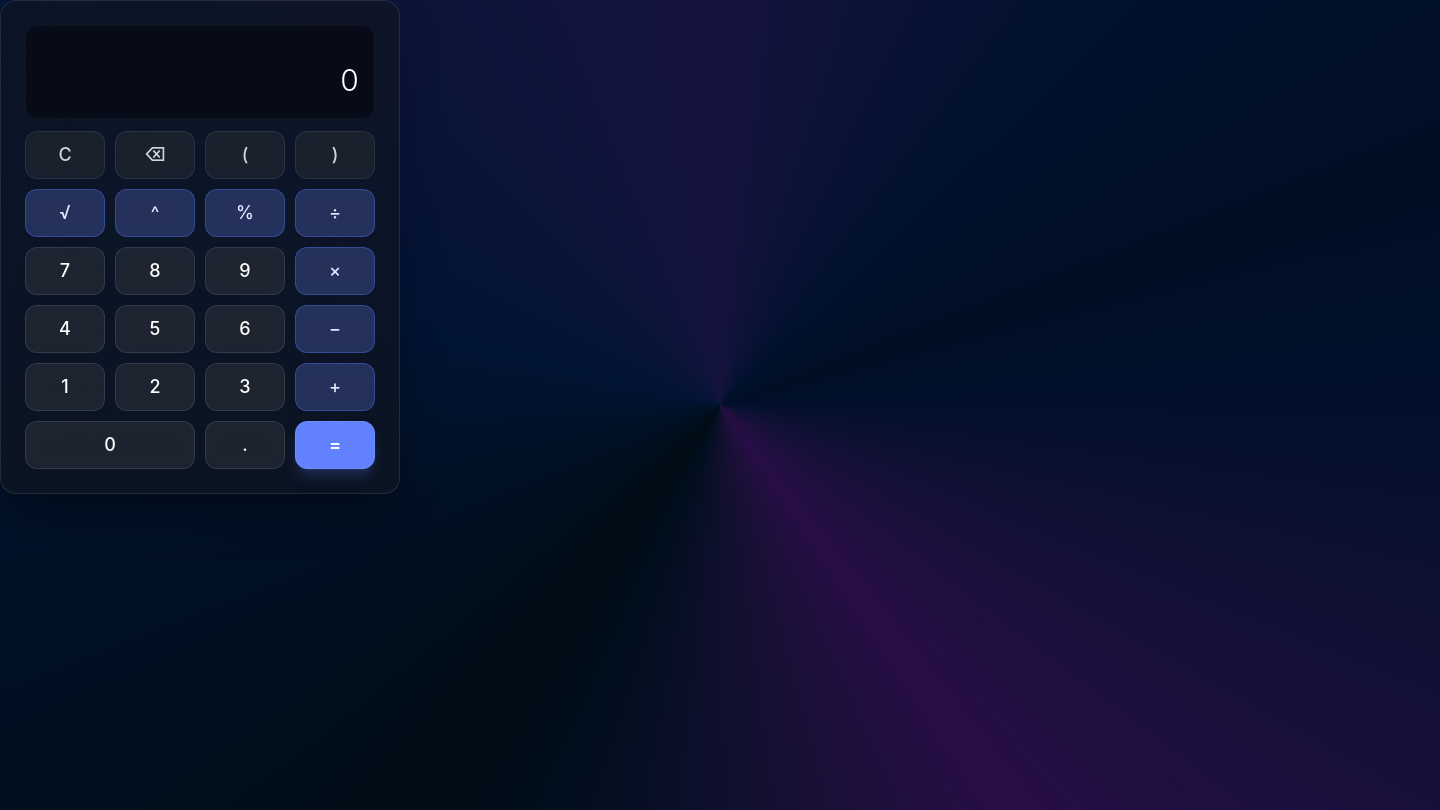
Test case: Calculator › sqrt with implicit multiplication: 5, √, 9 = 15
The width and height of the screenshot is (1440, 810).
Click the button "5". click: (155, 329)
box: [115, 305, 195, 353]
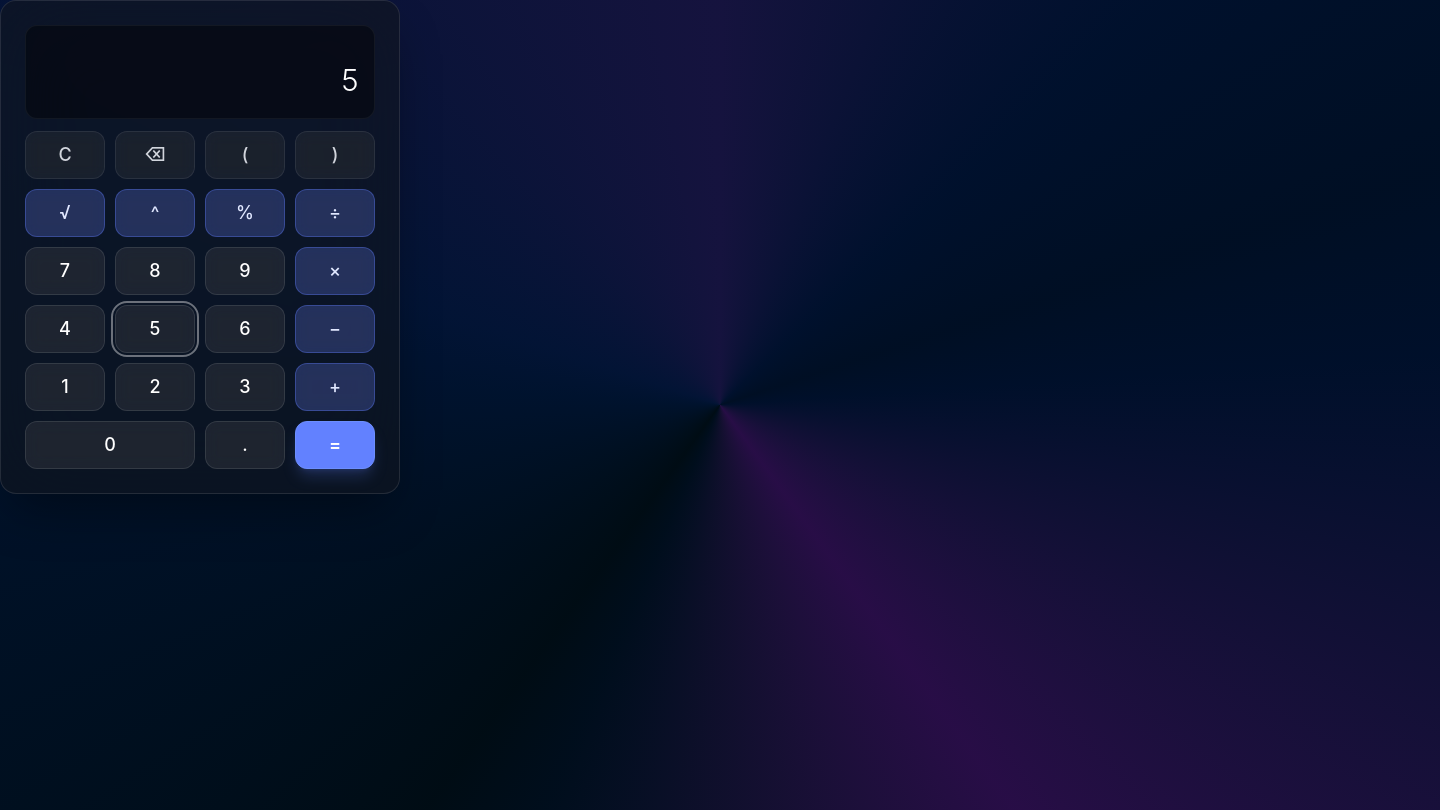
Click the button named "square root". click: (65, 213)
box: [25, 189, 105, 237]
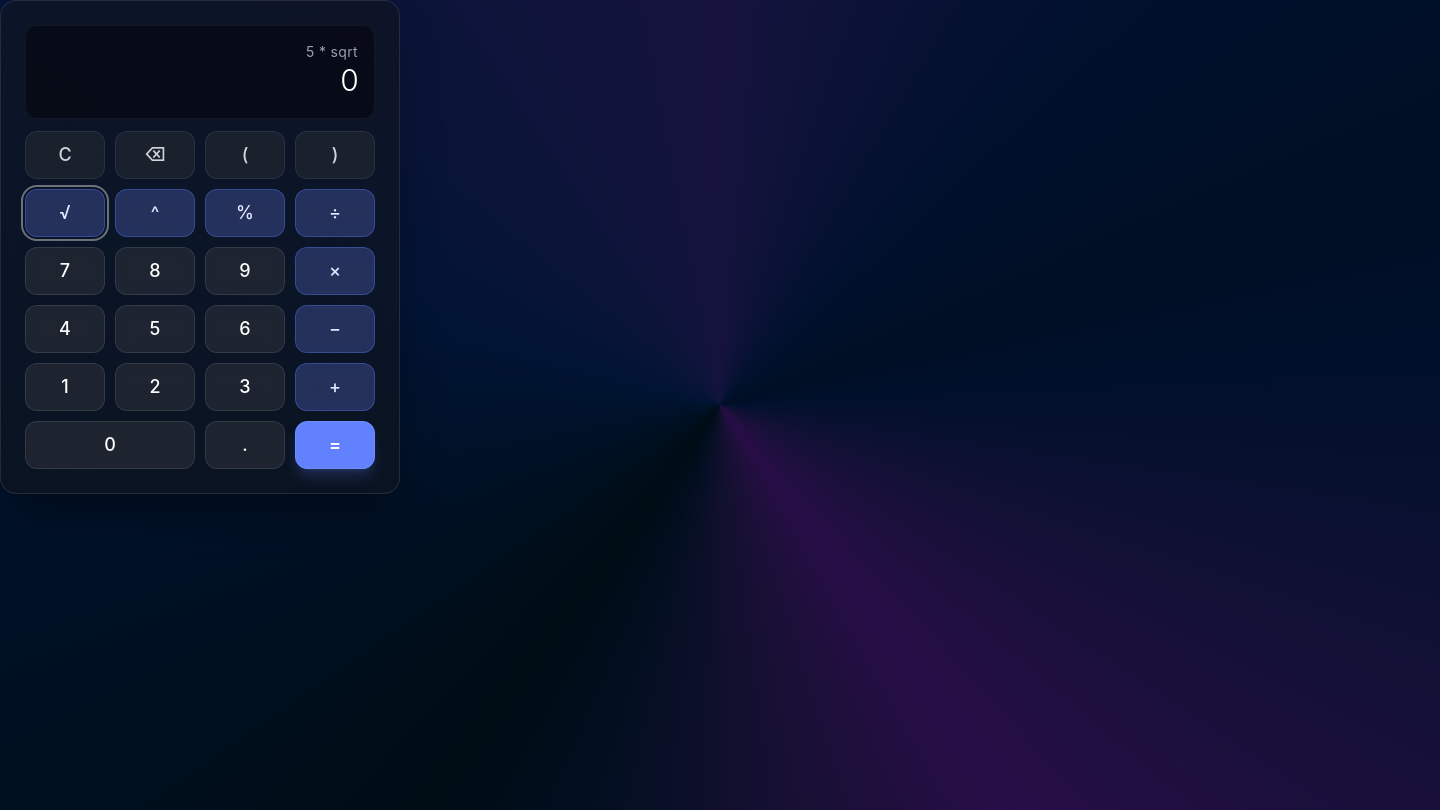
Click the button "9". click: (245, 271)
box: [205, 247, 285, 295]
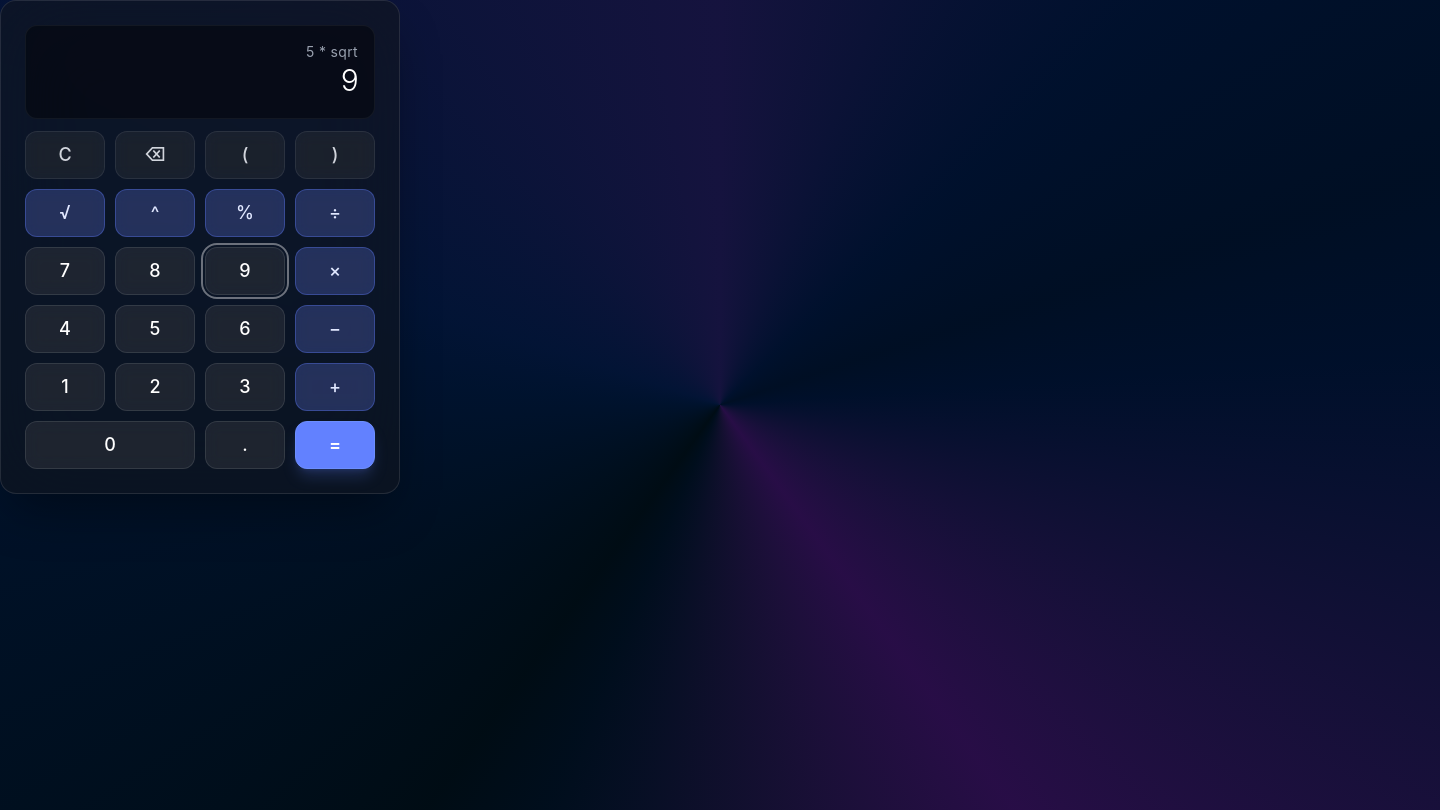
Click the button "=". click: (335, 445)
box: [295, 421, 375, 469]
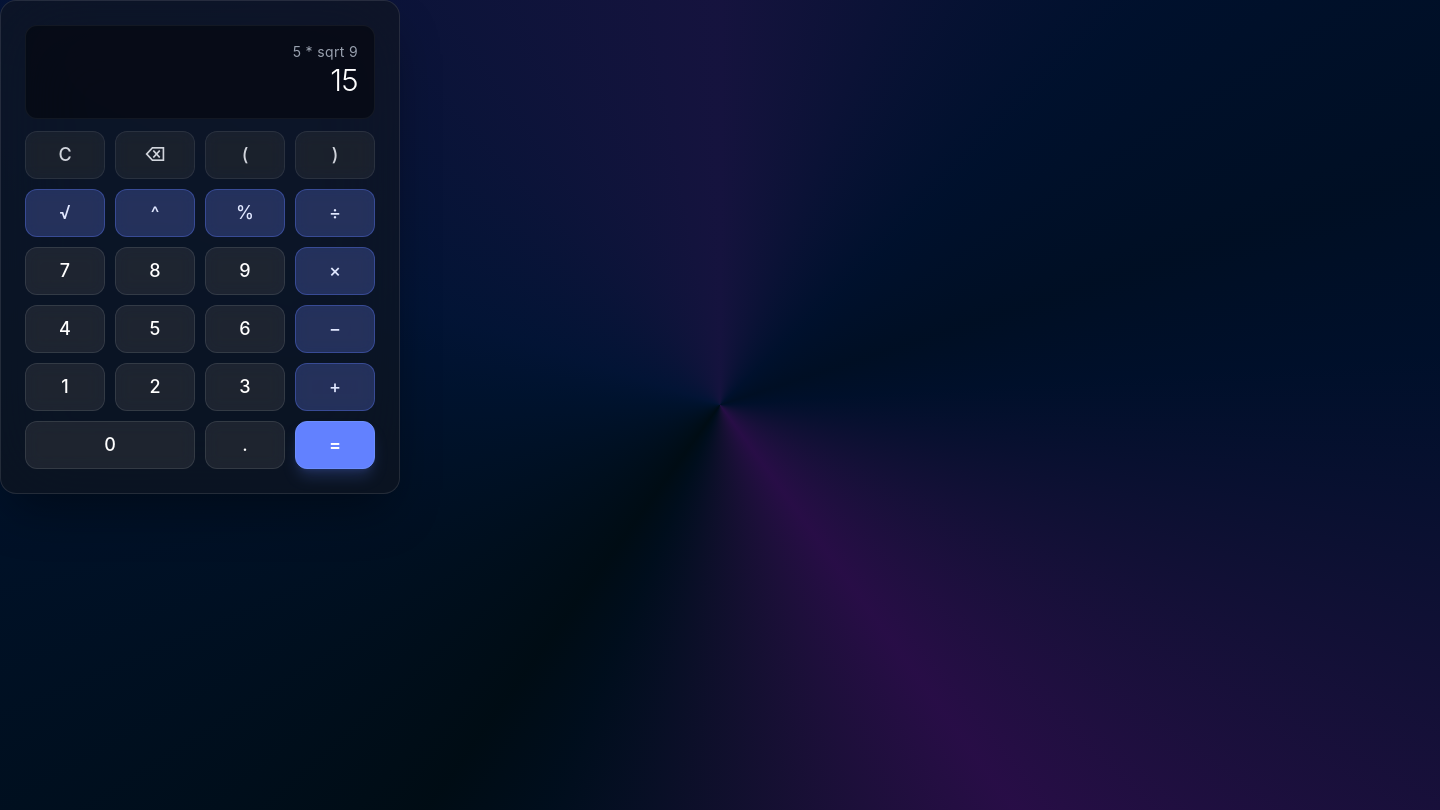
Expected: the text named "display value" reads "15", [330, 62, 358, 98]
